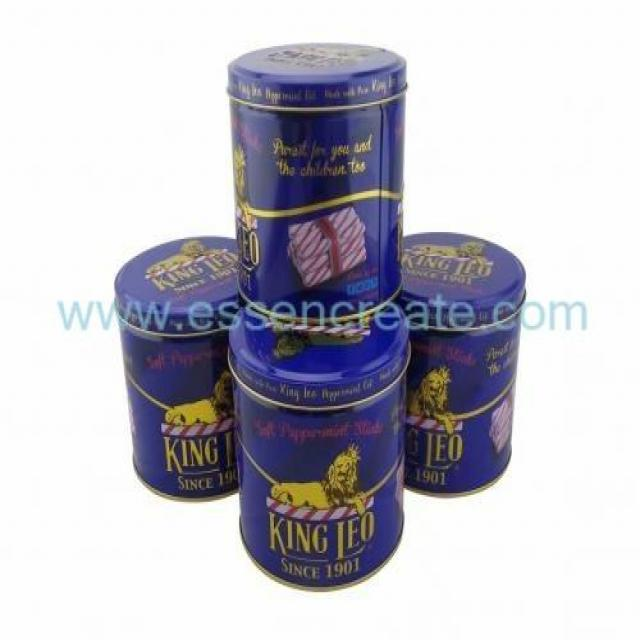metel: (220, 315, 413, 590), (226, 37, 409, 322), (383, 217, 527, 498), (104, 230, 251, 502)
